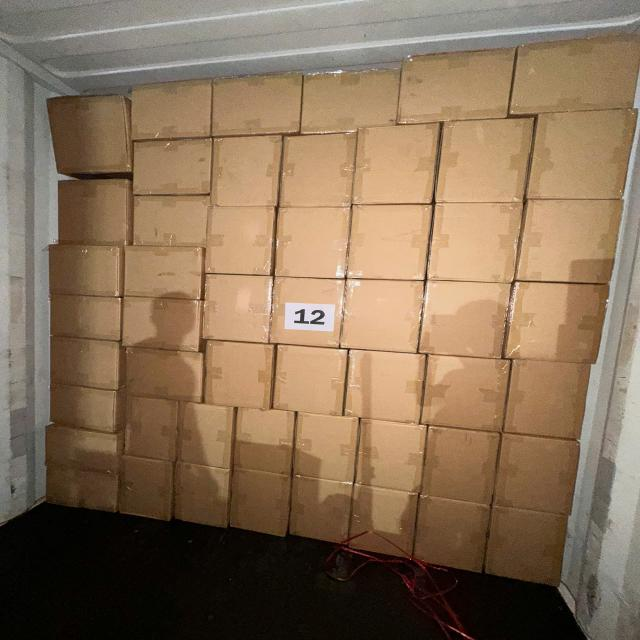Carton: (514, 5, 639, 110), (526, 108, 637, 200), (517, 197, 626, 284), (398, 42, 514, 118), (507, 278, 611, 360), (438, 118, 534, 205), (45, 92, 136, 177), (432, 200, 525, 283), (423, 278, 514, 358), (420, 356, 508, 436), (506, 358, 594, 438), (498, 434, 582, 517), (356, 124, 440, 207), (492, 506, 572, 592), (302, 67, 402, 132), (349, 202, 429, 281), (342, 278, 423, 354), (343, 350, 423, 426), (426, 427, 501, 508), (417, 497, 491, 578), (209, 76, 301, 139), (279, 133, 355, 209), (278, 203, 352, 278), (358, 416, 428, 494), (54, 177, 130, 248), (129, 81, 211, 145), (351, 481, 416, 561), (213, 134, 284, 207), (275, 276, 346, 348), (277, 344, 349, 415), (201, 276, 271, 347), (201, 338, 273, 407), (207, 203, 275, 276), (121, 346, 206, 401), (293, 412, 357, 485), (122, 299, 204, 355), (289, 472, 351, 546), (136, 138, 215, 196), (231, 464, 292, 538), (42, 422, 121, 478), (124, 247, 206, 300), (116, 394, 178, 462), (236, 408, 297, 477), (134, 194, 212, 247), (44, 462, 120, 516), (174, 462, 231, 533), (46, 380, 120, 434), (180, 401, 236, 472), (48, 246, 123, 298), (118, 454, 174, 523), (47, 336, 119, 389), (47, 298, 120, 343)
